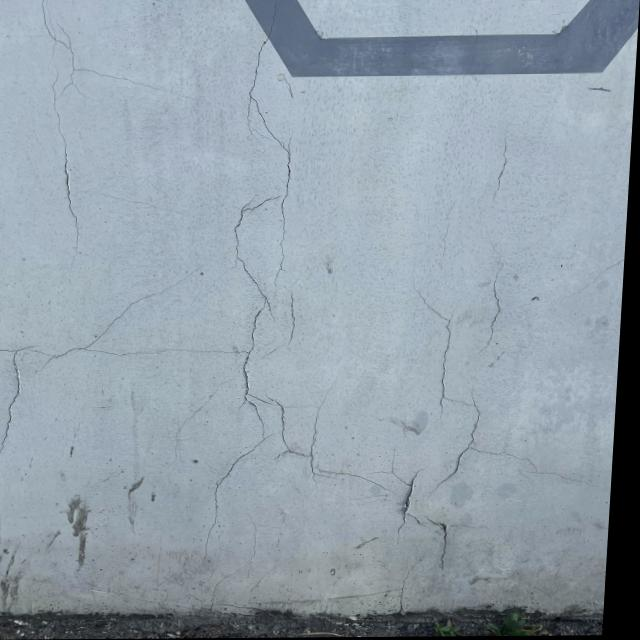crack: (209, 0, 355, 486), (5, 0, 113, 257), (323, 453, 476, 570), (417, 285, 510, 442), (0, 340, 225, 367)
